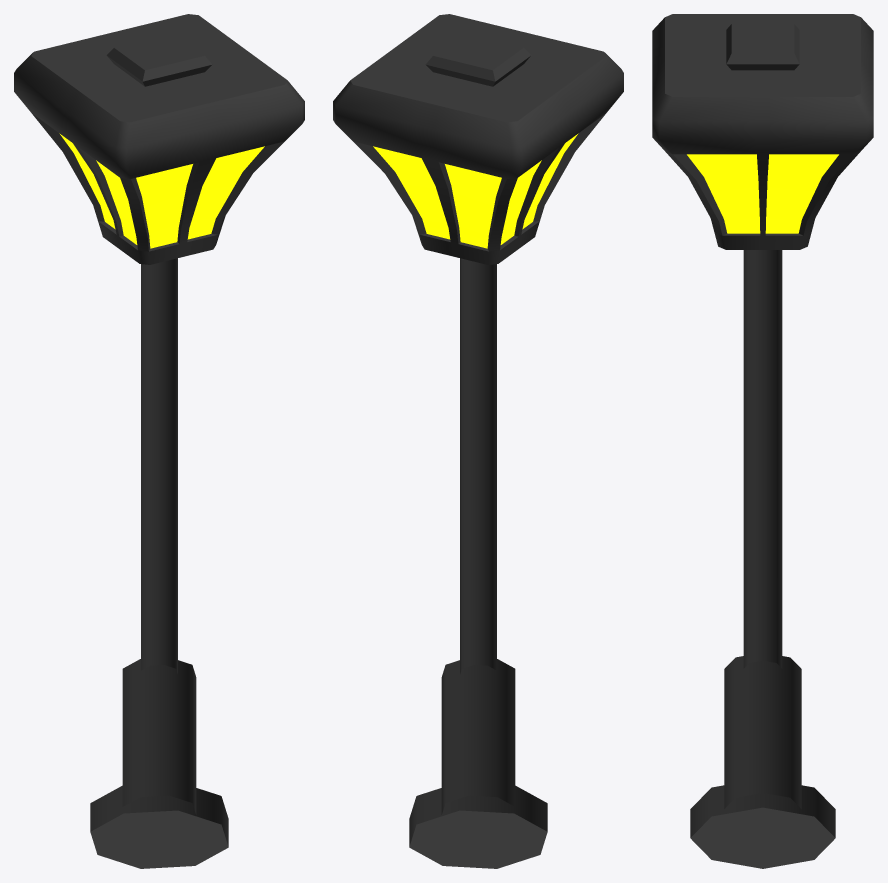
File: Lamppost.fbx
3 views of the same model, side by side, from view 1: azimuth 30°, elevation 25°; view 2: azimuth 150°, elevation 25°; view 3: azimuth 270°, elevation 25° (orthographic).
Parts seen in each view (by area): view 1: Lamppost; view 2: Lamppost; view 3: Lamppost.
Part boxes in pixels (x1,y1,x2,y2): Lamppost: (14,14,304,868); Lamppost: (333,14,623,868); Lamppost: (652,14,873,868).
Bounding box in the file's own units: 62.85 × 250 × 62.85.
